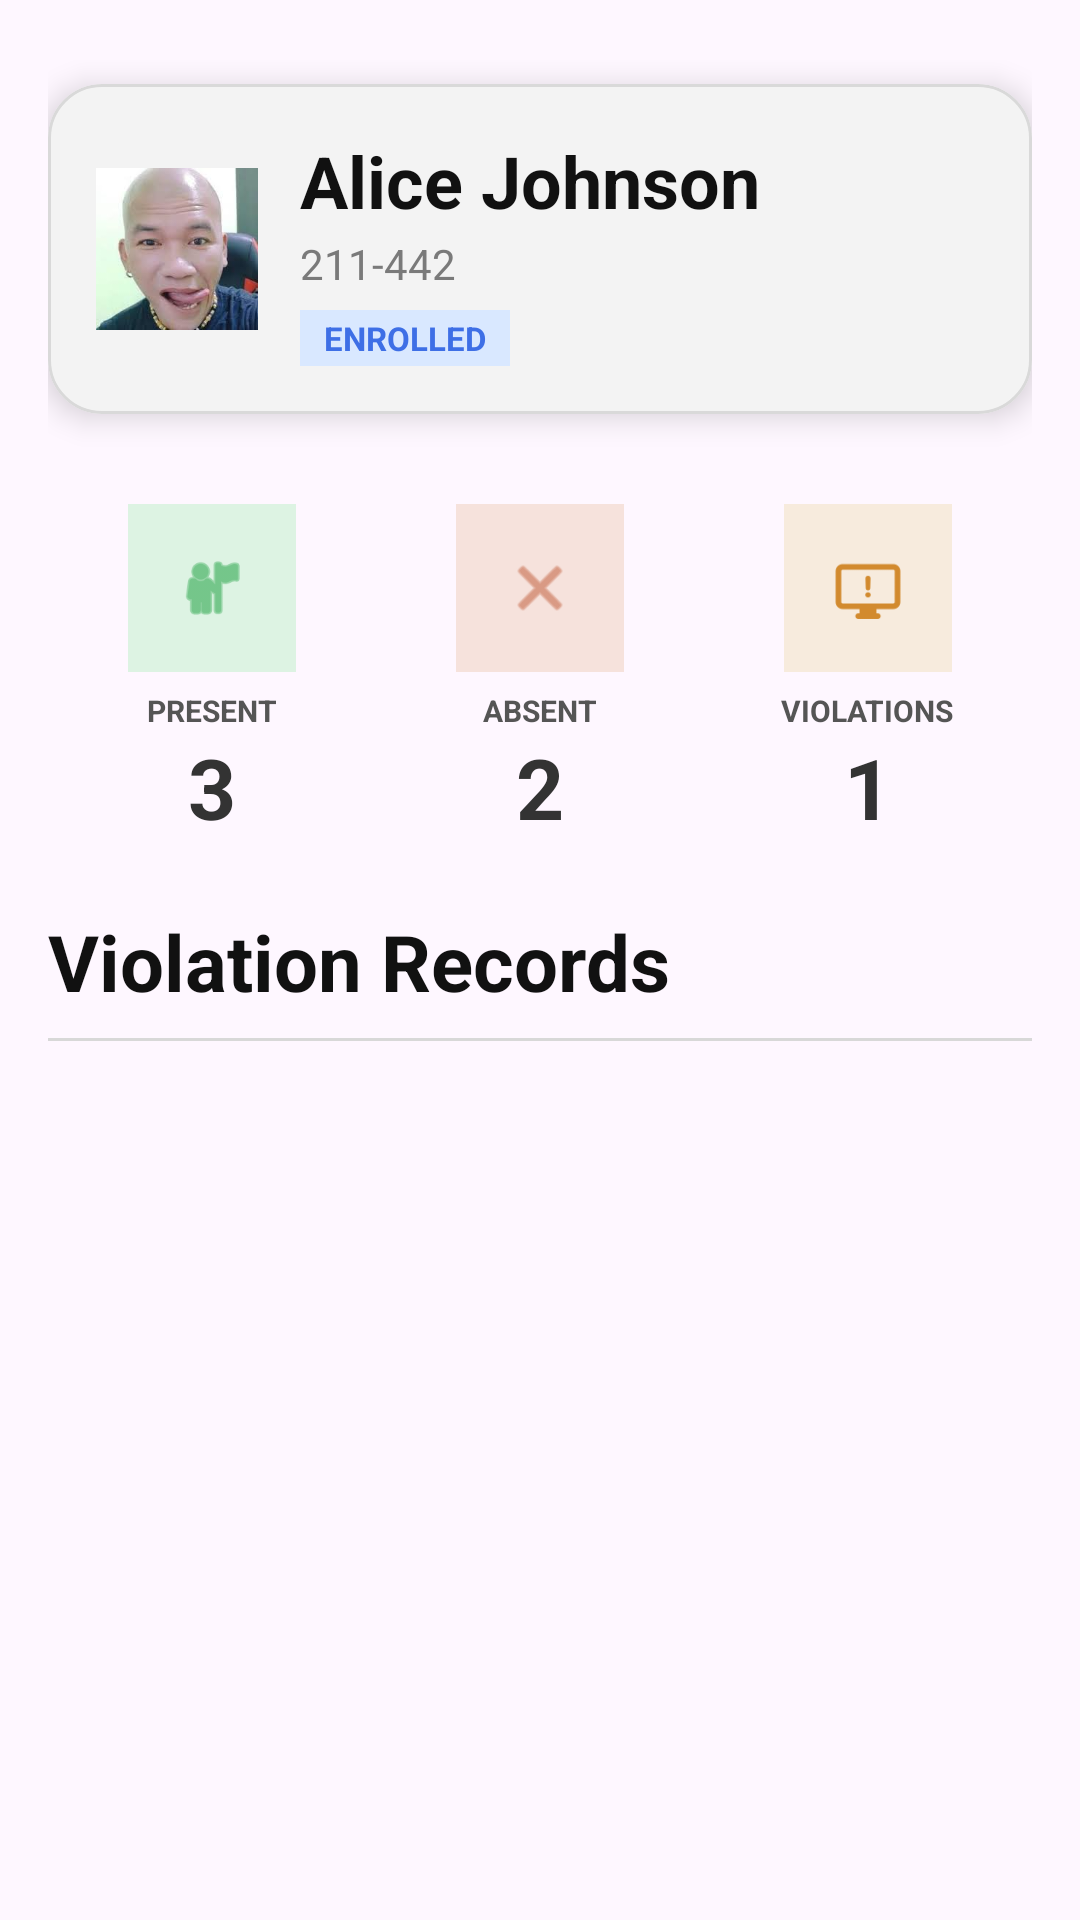

Locate icon controls on the screen. Image size 1080x1920, boxes as (x1, y1, x2, y2).
close clear cancel: (518, 566, 562, 610)
system report: (835, 563, 901, 619)
